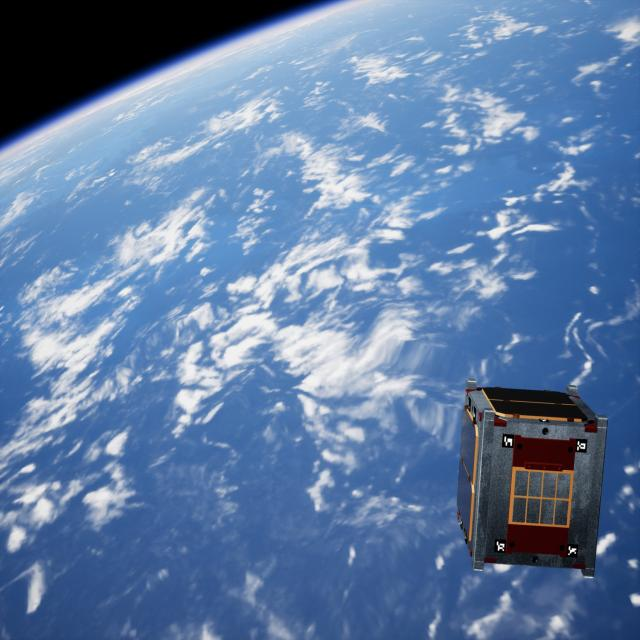medium_debris: (456, 376, 616, 580)
